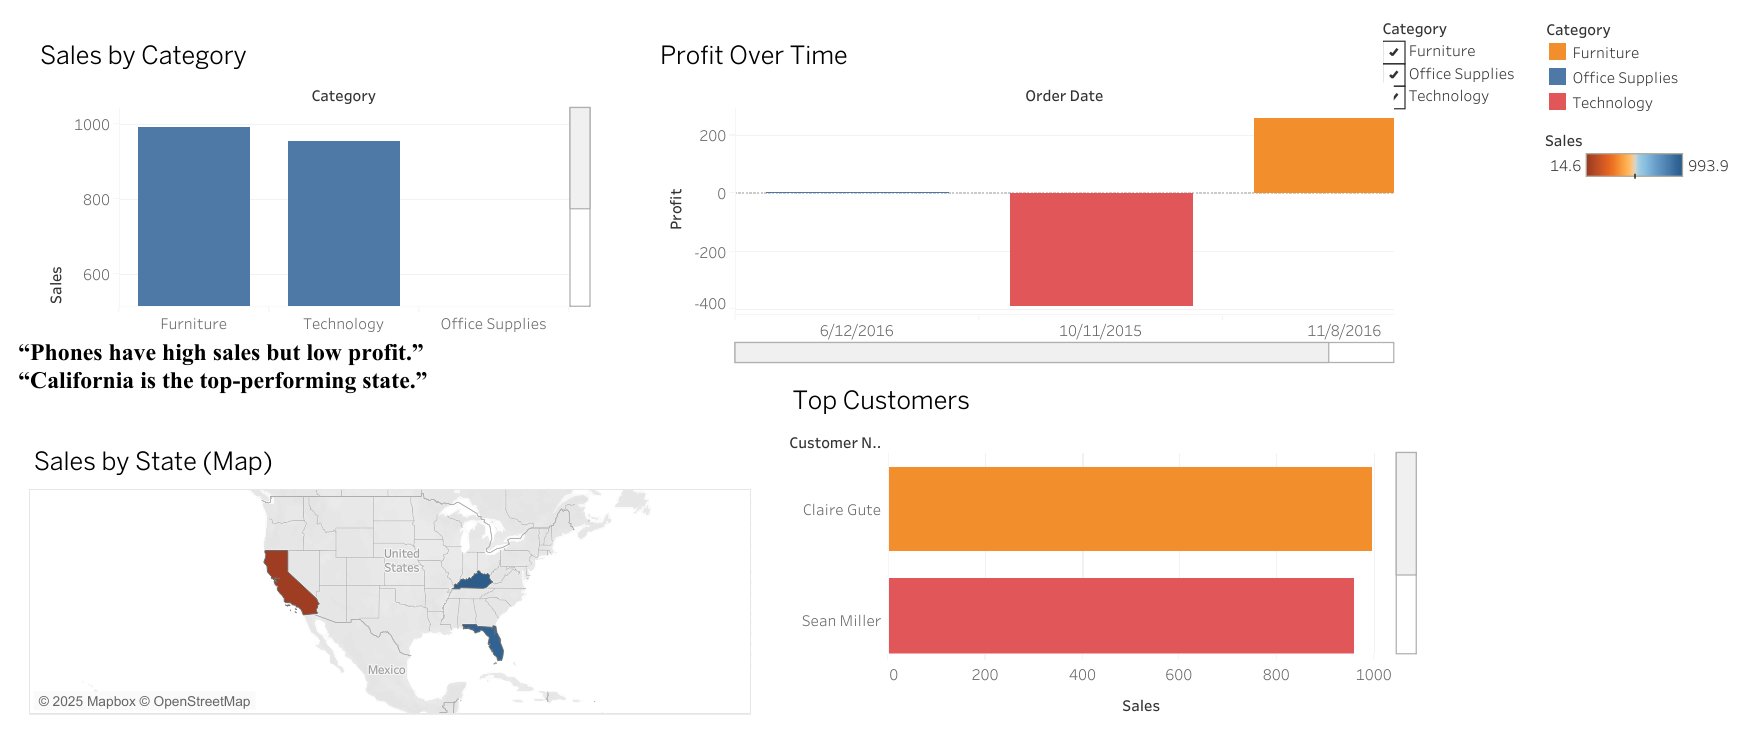

The dashboard page shown, as its layout file describes it:
{"tool":"tableau","page":{"name":"Dashboard 1","canvas":[1000,1000],"units":"permille","ordinal":0},"visuals":[{"type":"text","box":[4.8,10,399.9,980]},{"type":"dashboard-object","param":"[com.tableau.addfilters].[0.0.0].[https://extensions.tableauusercontent.com/sand","box":[404.7,10,399.9,980]},{"type":"filter","title":"Sheet 1","param":"[federated.0c7nf8q008msgf11bbl440aysuki].[none:Category:nk]","box":[804.7,10,95.3,980]},{"type":"legend","title":"Sheet 2","param":"[federated.0c7nf8q008msgf11bbl440aysuki].[none:Category:nk]","box":[900,10,95.3,116.1]},{"type":"worksheet","title":"Sheet 1","mark":"Automatic","rows":["Sales"],"cols":["Category"],"box":[19.7,41.2,353.8,414.5]},{"type":"worksheet","title":"Sheet 2","mark":"Automatic","rows":["Profit"],"cols":["Order Date"],"box":[374,41.2,422.3,455.7]},{"type":"legend","title":"Sheet 3","param":"[federated.0c7nf8q008msgf11bbl440aysuki].[sum:Sales:qk]","box":[900,126.1,95.3,91.1]},{"type":"worksheet","title":"Sheet 4","mark":"Automatic","rows":["Customer Name"],"cols":["Sales"],"box":[450.3,513.1,359.7,478.2]},{"type":"worksheet","title":"Sheet 3","mark":"Automatic","box":[16.1,596.8,413.3,380.8]}]}

Visuals, with their boxes on the dashboard's canvas, which has no fixed pixel size, in thousandths of its width and height (x1, y1, x2, y2). These are canvas units, not pixel positions in the 1749x730 screenshot, which may show the page scaled, cropped or inside an application window:
text: crop(5, 10, 405, 990)
dashboard-object: crop(405, 10, 805, 990)
"Sheet 1" filter: crop(805, 10, 900, 990)
"Sheet 2" legend: crop(900, 10, 995, 126)
"Sheet 1" worksheet: crop(20, 41, 374, 456)
"Sheet 2" worksheet: crop(374, 41, 796, 497)
"Sheet 3" legend: crop(900, 126, 995, 217)
"Sheet 4" worksheet: crop(450, 513, 810, 991)
"Sheet 3" worksheet: crop(16, 597, 429, 978)
